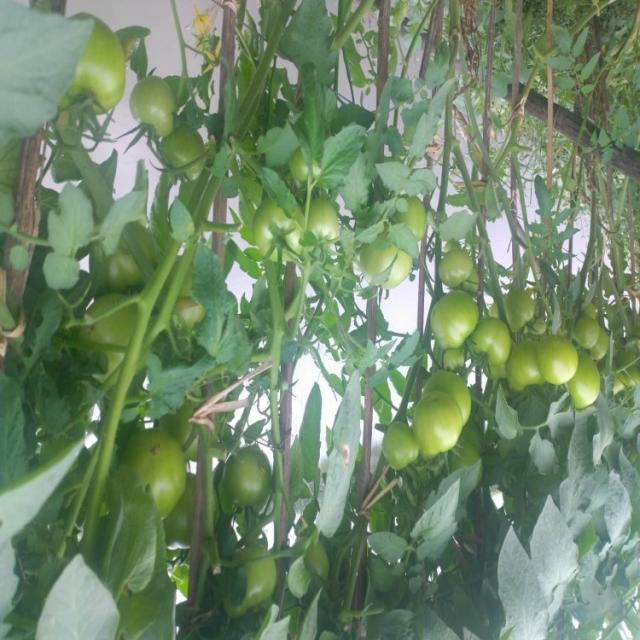tomato: (51, 10, 142, 124), (119, 411, 220, 513), (407, 375, 478, 458), (85, 295, 149, 375), (429, 297, 500, 366), (419, 352, 490, 418), (264, 206, 326, 279), (124, 77, 186, 141), (160, 128, 218, 194), (428, 247, 489, 303), (363, 234, 421, 289), (225, 452, 282, 507), (238, 550, 289, 606), (503, 280, 546, 344), (566, 358, 610, 420), (363, 420, 429, 461), (107, 218, 144, 289), (532, 338, 576, 395), (500, 343, 544, 398), (390, 191, 429, 248), (474, 319, 505, 367), (286, 147, 317, 190), (317, 207, 349, 248), (586, 335, 619, 367), (571, 309, 599, 345)
